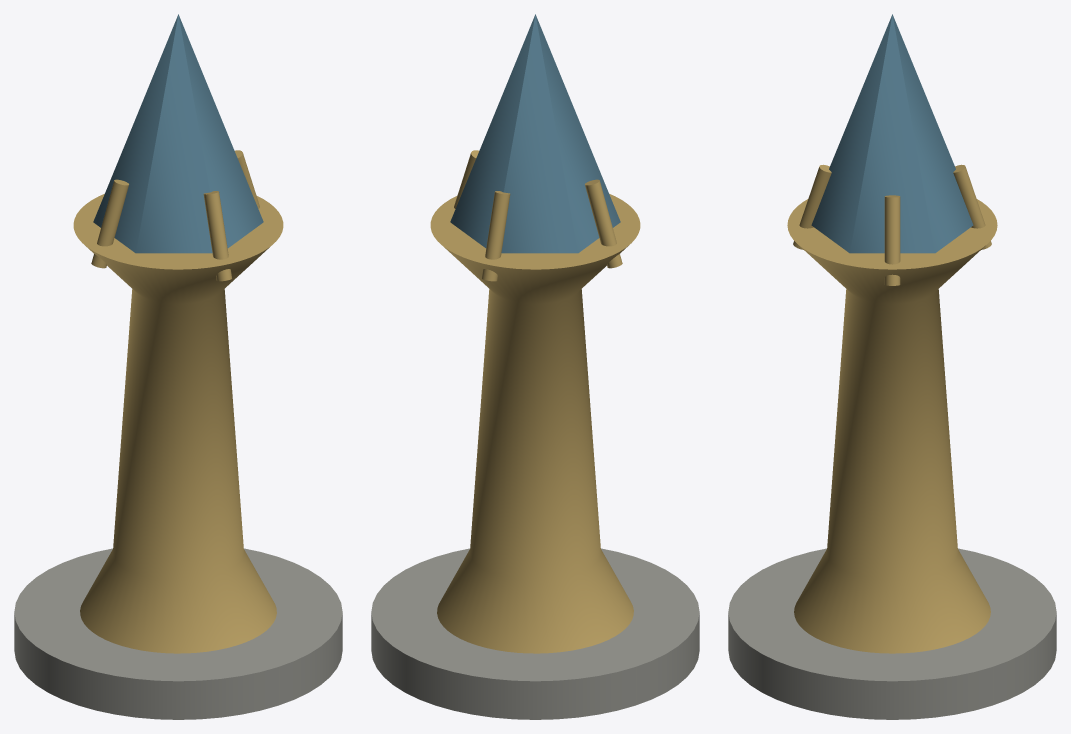
Rendered from fantasy-cartographers-map-printing-guild-navigation-li-b1bea72c__32271.glb.
The picture shows the model from 3 angles, left to right: view 1: azimuth 30°, elevation 25°; view 2: azimuth 150°, elevation 25°; view 3: azimuth 270°, elevation 25°; orthographic projection.
Parts seen in each view (by area): view 1: navigation-light-crystal-pedestal; view 2: navigation-light-crystal-pedestal; view 3: navigation-light-crystal-pedestal.
Part boxes in pixels (x1=…): navigation-light-crystal-pedestal: x1=14, y1=14, x2=342, y2=719; navigation-light-crystal-pedestal: x1=371, y1=14, x2=699, y2=719; navigation-light-crystal-pedestal: x1=728, y1=14, x2=1056, y2=719.
Bounding box in the file's own units: 0.5 × 1.07 × 0.5.
